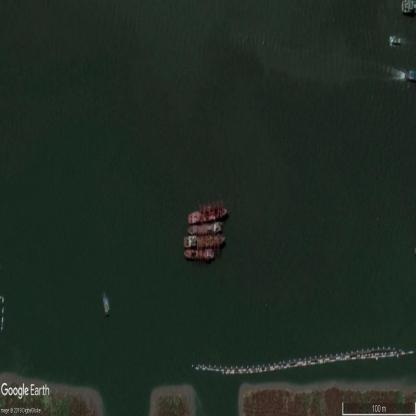ship: (189, 203, 228, 223), (184, 235, 226, 248), (186, 220, 223, 234), (183, 249, 217, 262)
